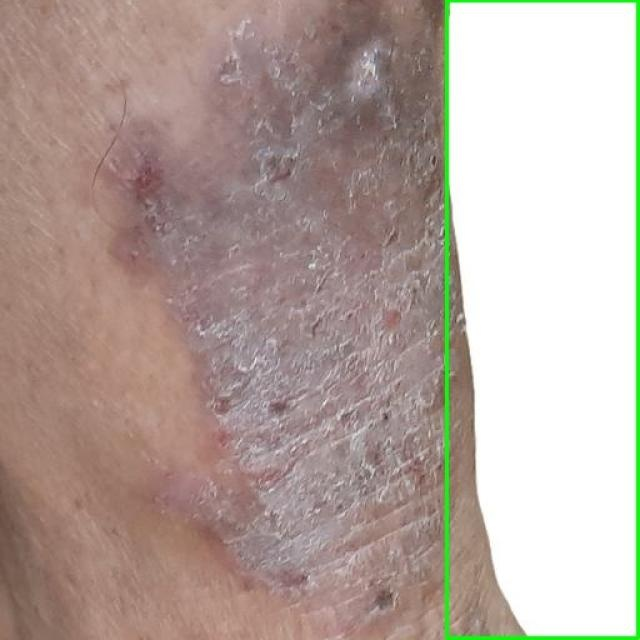Eczema: (448, 0, 639, 639)
